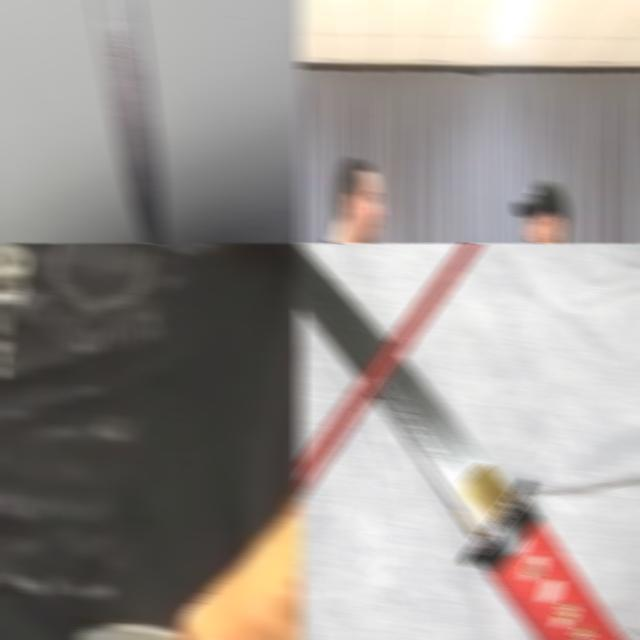Knife: (91, 0, 166, 243)
Knife_Handle: (74, 578, 303, 640)
